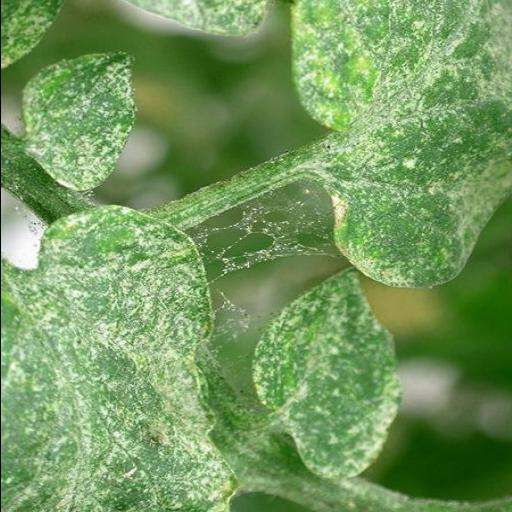disease_tomato: (0, 202, 243, 512), (289, 0, 512, 293), (250, 267, 406, 481), (16, 50, 138, 194)
